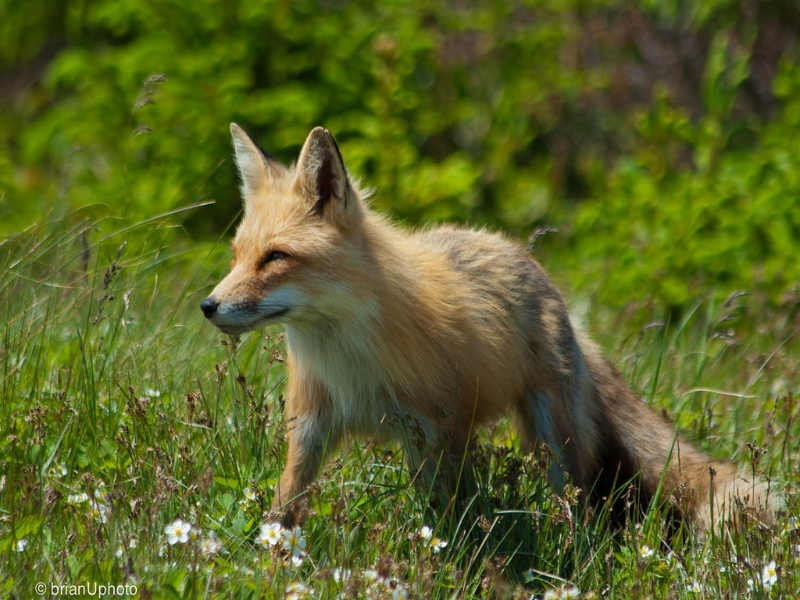fox: (200, 111, 799, 576)
